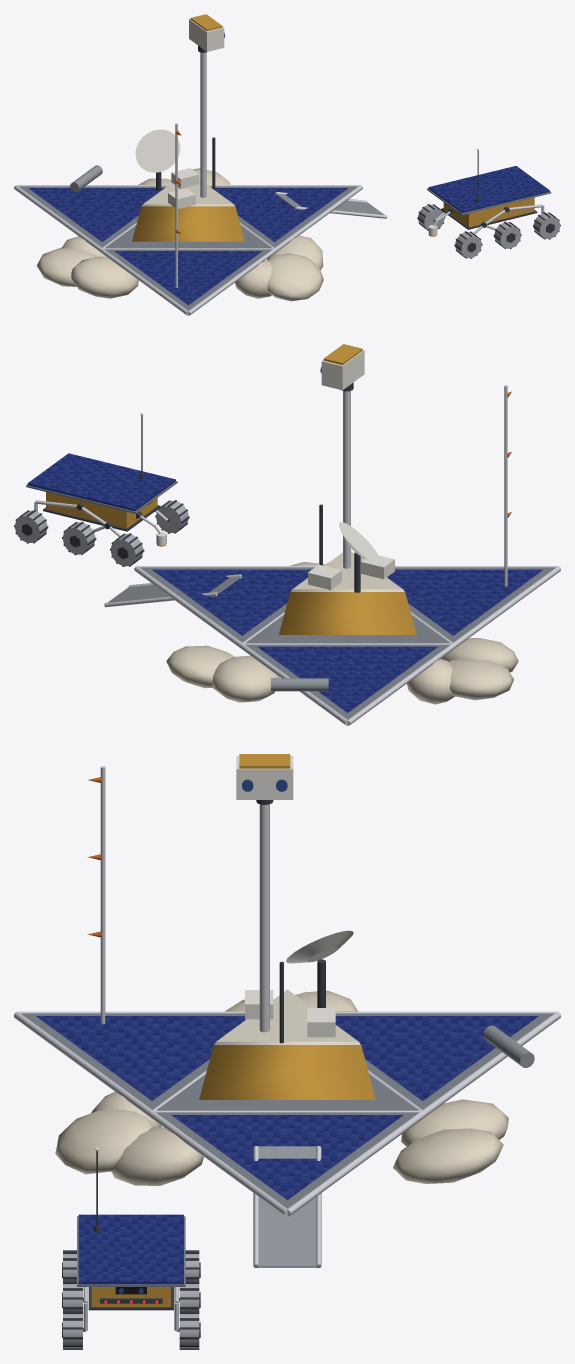
Rendered from sojourner.glb.
3 views of the same model, one above another, from view 1: azimuth 30°, elevation 25°; view 2: azimuth 150°, elevation 25°; view 3: azimuth 270°, elevation 25° (orthographic). The views are drawn at different scales.
Bounding box in the file's own units: 2.8 × 1.48 × 1.93.
16 materials, 2 textured.
